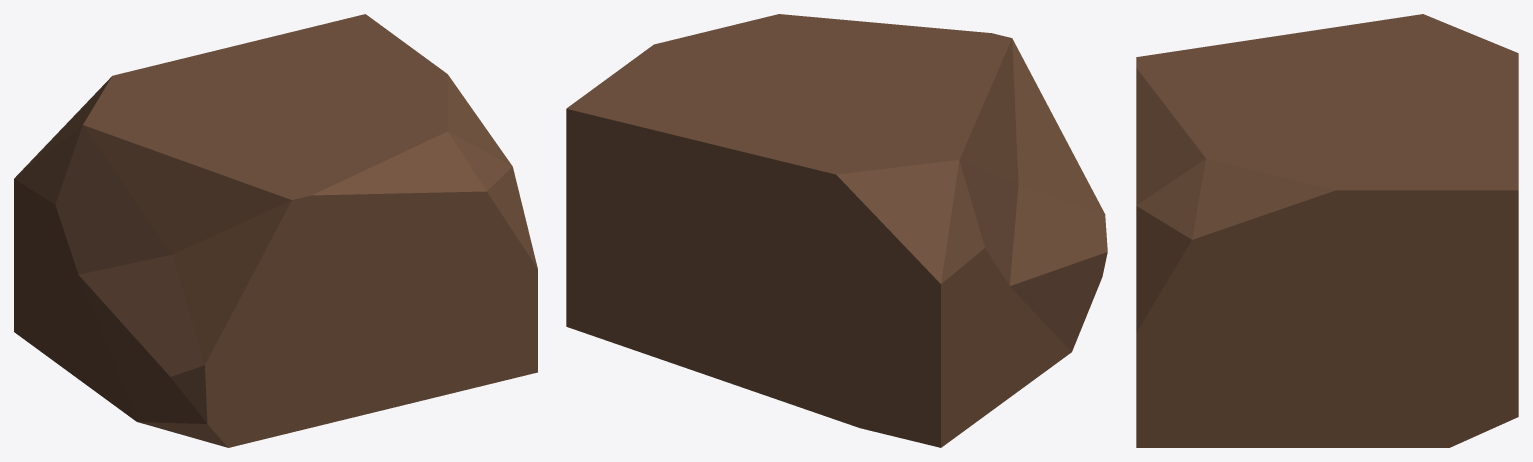
File: SM_Prop_Brick_Half_02.fbx
3 renders of one model, left to right at view 1: azimuth 30°, elevation 25°; view 2: azimuth 150°, elevation 25°; view 3: azimuth 270°, elevation 25°, orthographic. The views are drawn at different scales.
Visible parts, largest first — view 1: SM_Prop_Brick_Half_02; view 2: SM_Prop_Brick_Half_02; view 3: SM_Prop_Brick_Half_02.
Part boxes in pixels (bbox=[...]): SM_Prop_Brick_Half_02: bbox=[14, 14, 537, 447]; SM_Prop_Brick_Half_02: bbox=[566, 14, 1107, 447]; SM_Prop_Brick_Half_02: bbox=[1136, 14, 1518, 447].
Size of the model in its own units: 30.33 by 19.16 by 25.76.
